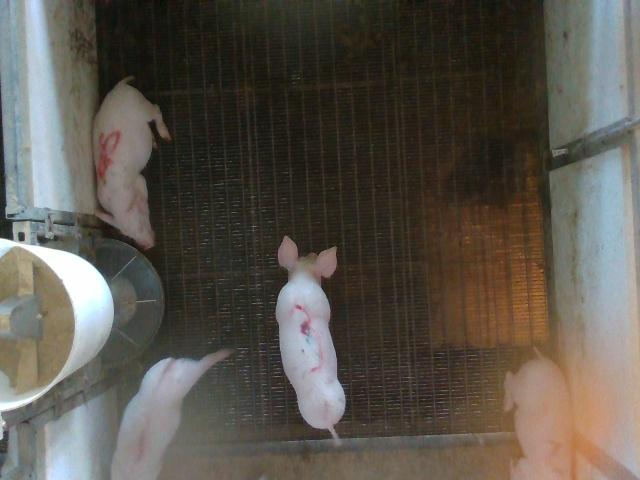pig-1: (111, 350, 231, 478)
pig-2: (504, 350, 571, 478)
pig-3: (276, 236, 345, 441)
pig-5: (94, 76, 171, 248)
